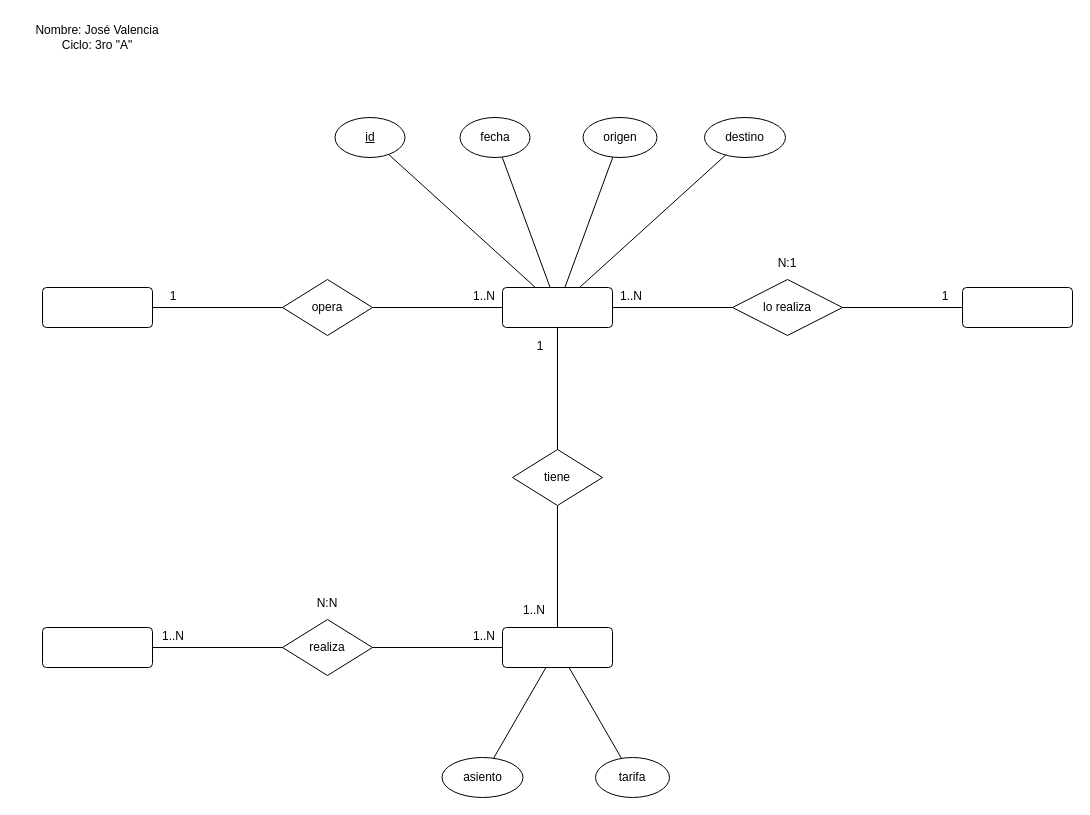
Image size: 1090x815. Some labels were removed from this diagram. The shapes that lost their labels are listed below. From the top down, each one's centre as x and y in pixels, then its label:
At (x=97, y=307): "Aerolínea".
At (x=557, y=307): "Vuelo".
At (x=1017, y=307): "Avión".
At (x=97, y=647): "Pasajero".
At (x=557, y=647): "Reserva".
